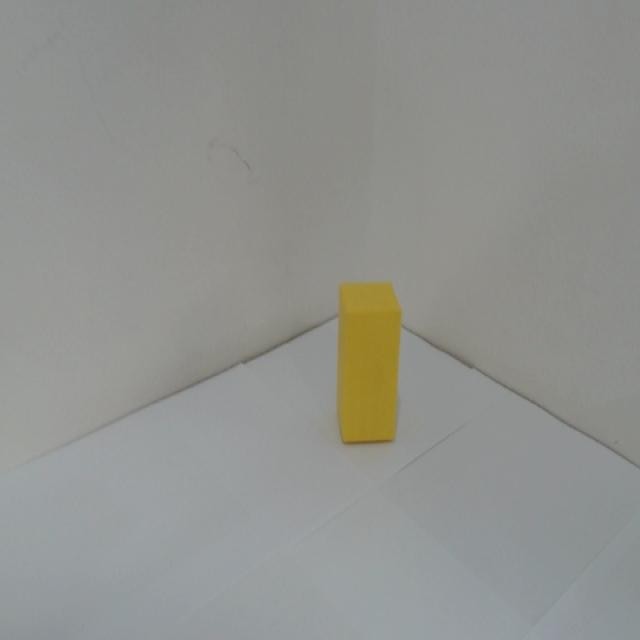cube: (335, 281, 405, 446)
